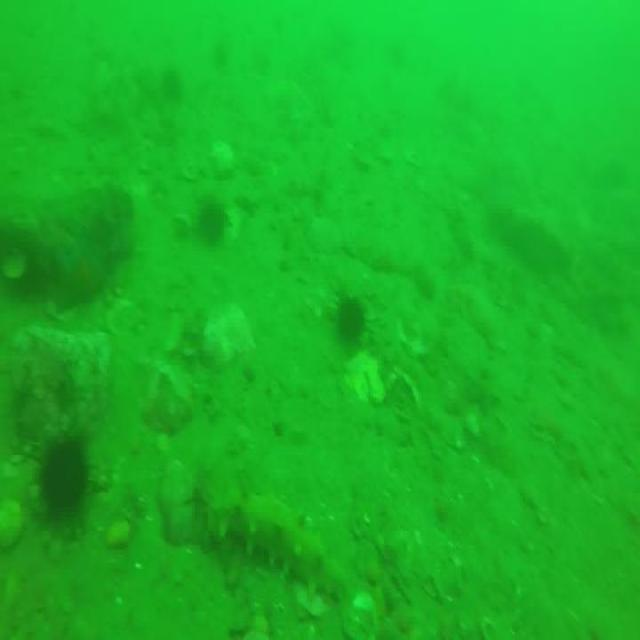echinus: (37, 430, 95, 515), (329, 294, 378, 349), (195, 194, 229, 243), (162, 68, 181, 104)
holothurian: (210, 474, 345, 607)
scallop: (344, 589, 379, 640), (102, 299, 142, 341)
